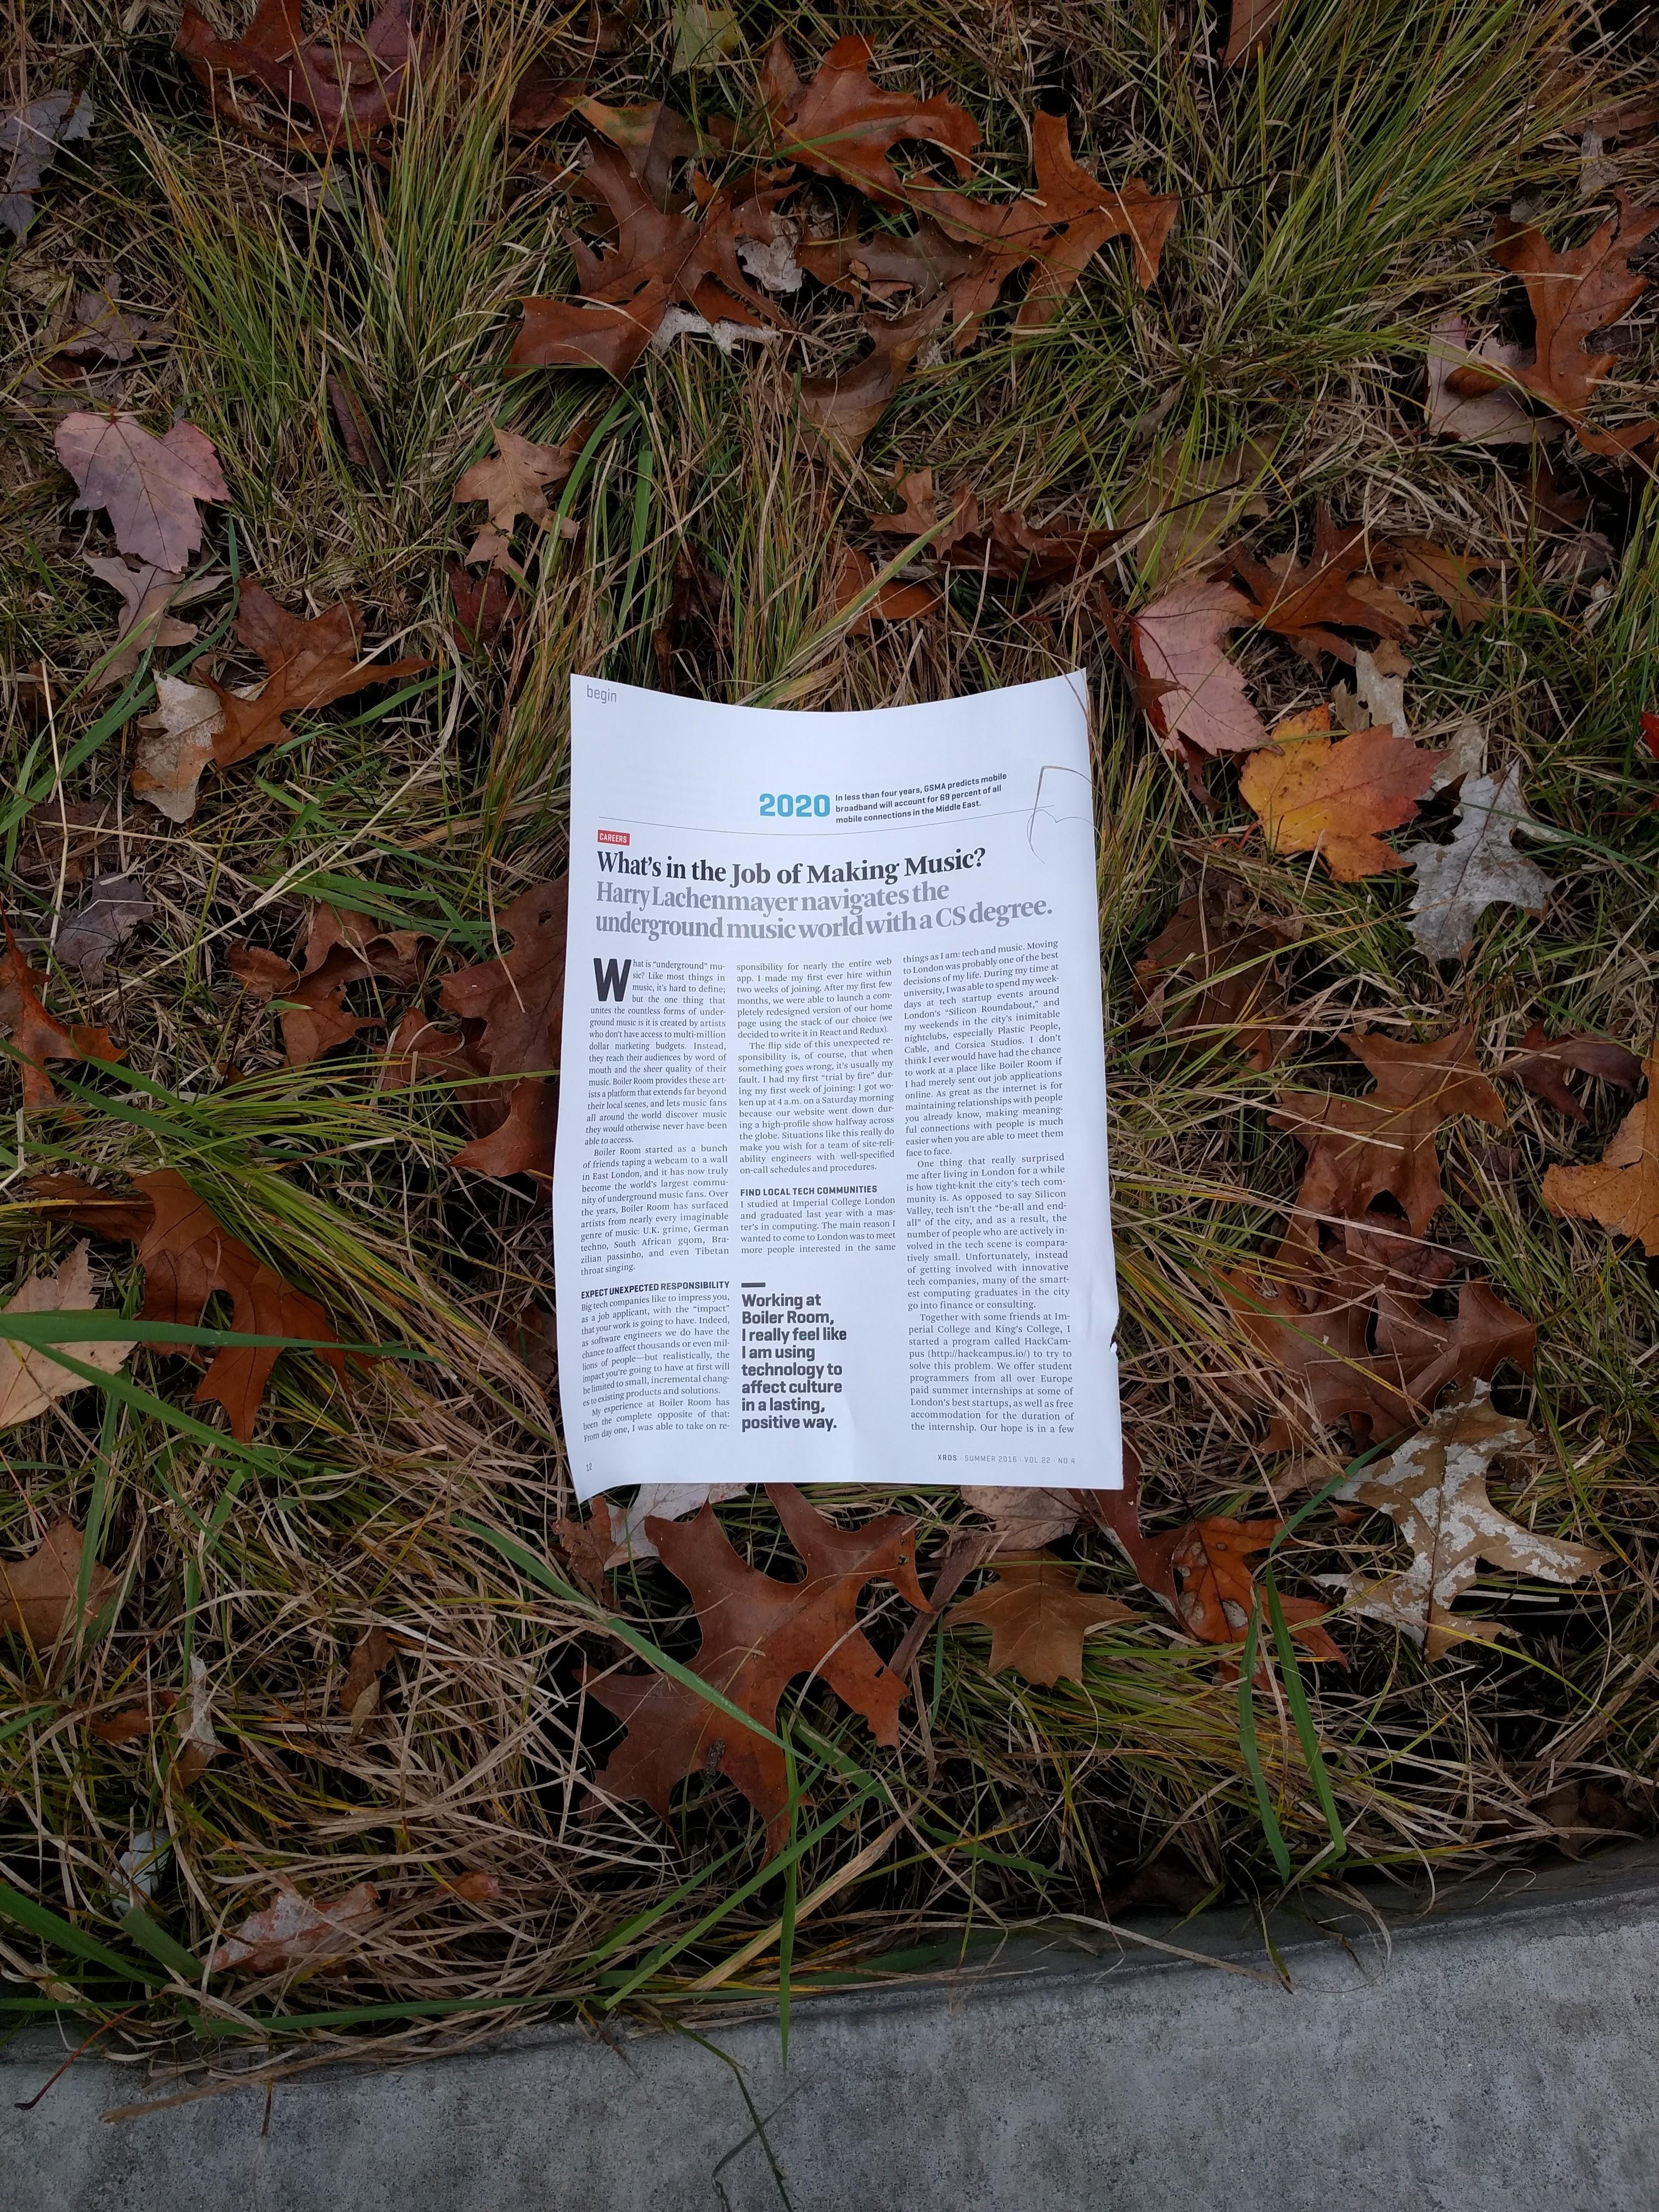paper: (406, 617, 1291, 1649)
